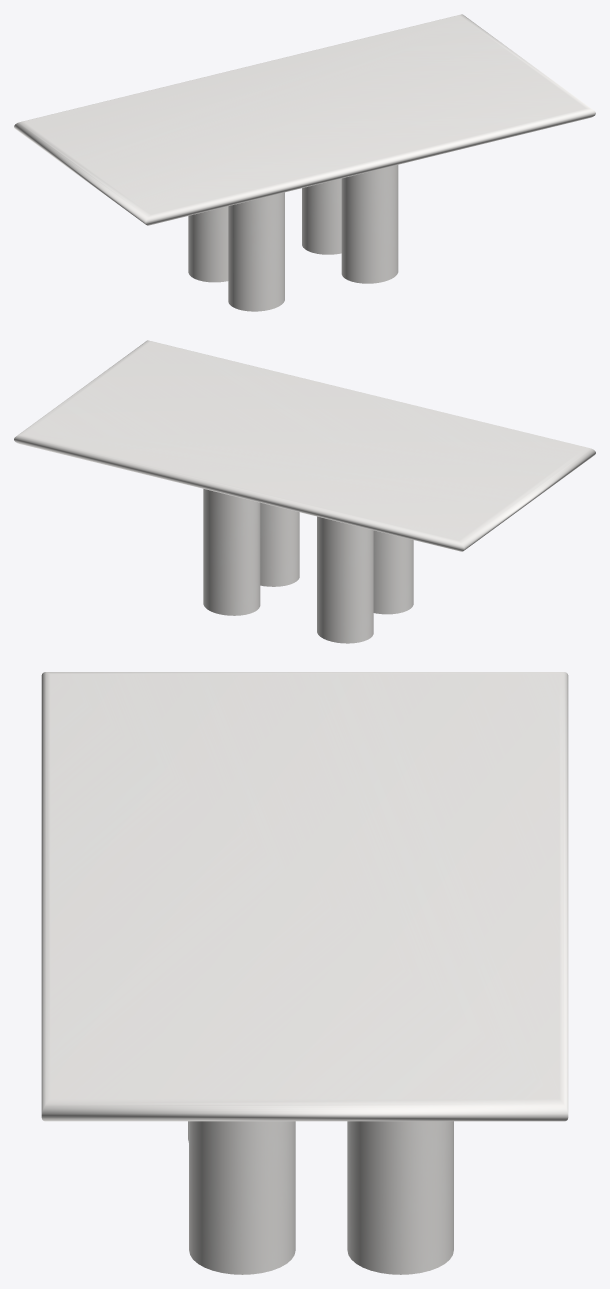
File: purewhite_recta_round_grove.glb
3 renders of one model, top to bottom at view 1: azimuth 30°, elevation 25°; view 2: azimuth 150°, elevation 25°; view 3: azimuth 270°, elevation 25°, orthographic. The views are drawn at different scales.
Visible parts, largest first — view 1: round_recta, grove; view 2: round_recta, grove; view 3: round_recta, grove.
Part boxes in pixels (x1=…): round_recta: x1=14, y1=14, x2=595, y2=225; grove: x1=188, y1=165, x2=398, y2=311; round_recta: x1=14, y1=340, x2=595, y2=551; grove: x1=203, y1=489, x2=413, y2=643; round_recta: x1=41, y1=672, x2=568, y2=1121; grove: x1=188, y1=1121, x2=453, y2=1274.
Bounding box in the file's own units: 7.5 × 2.51 × 3.8.
1 material, 1 textured.
